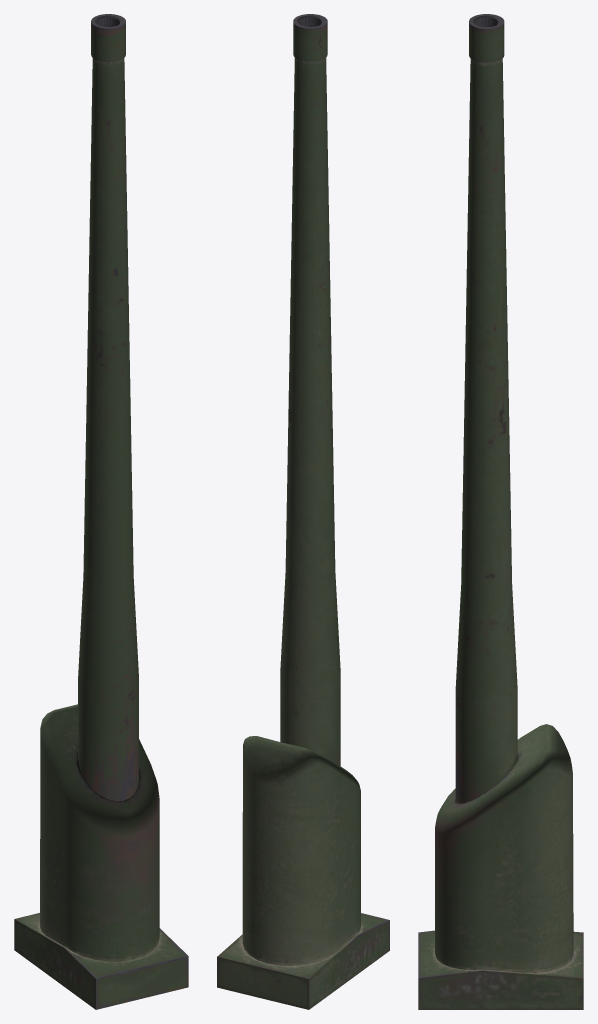
File: Gun_02.glb
3 renders of one model, left to right at view 1: azimuth 30°, elevation 25°; view 2: azimuth 150°, elevation 25°; view 3: azimuth 270°, elevation 25°, orthographic. The views are drawn at different scales.
Parts seen in each view (by area): view 1: set_0_group_0; view 2: set_0_group_0; view 3: set_0_group_0.
Part boxes in pixels (box(x1,y1,x2,y2)): set_0_group_0: box(14, 14, 188, 1009); set_0_group_0: box(217, 14, 389, 1009); set_0_group_0: box(418, 14, 583, 1009).
Size of the model in its own units: 0.4719 by 4.63 by 0.7193.
1 material, 1 textured.
